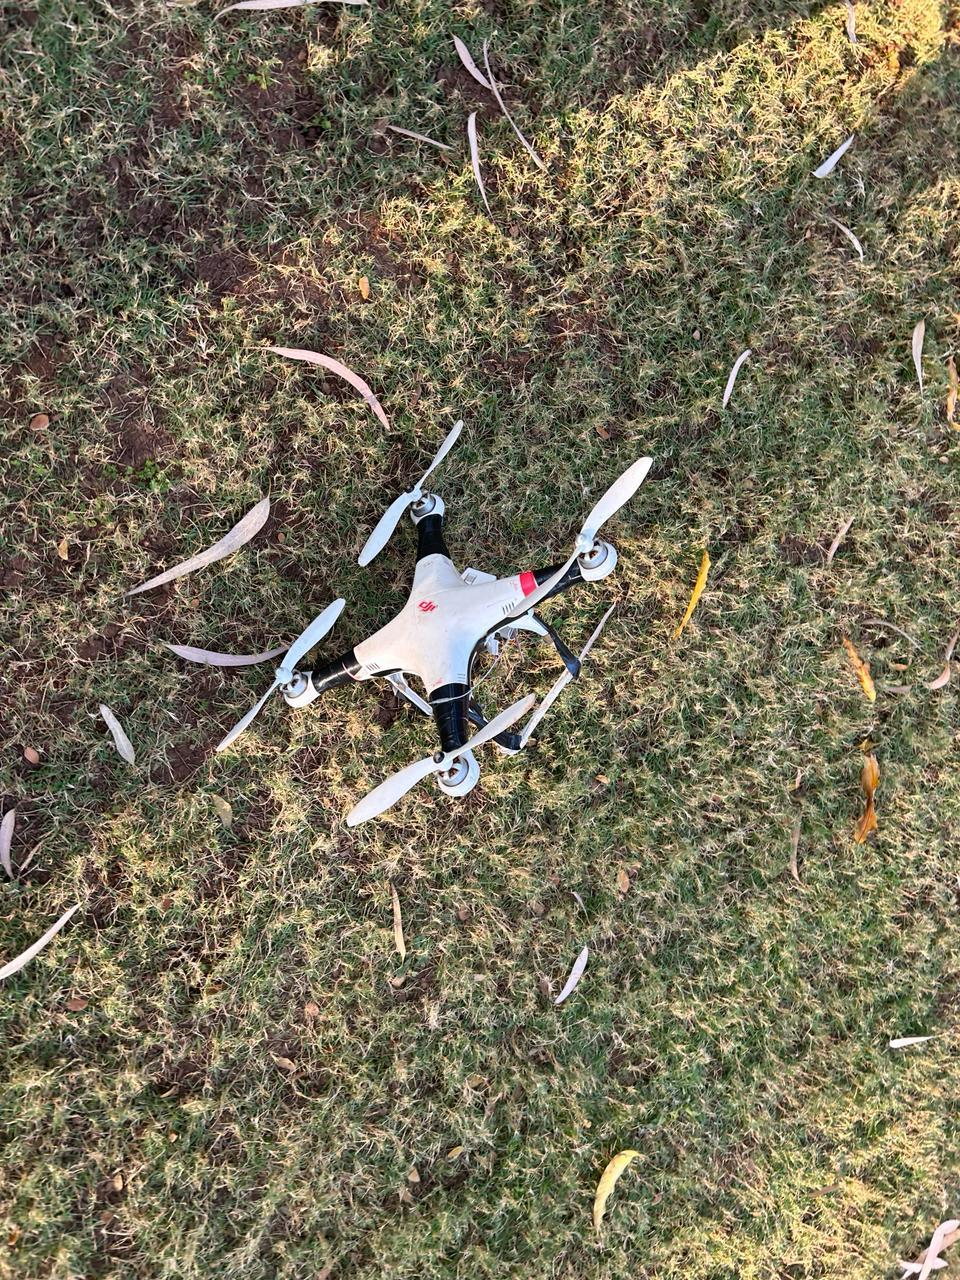drone: (101, 304, 786, 973)
